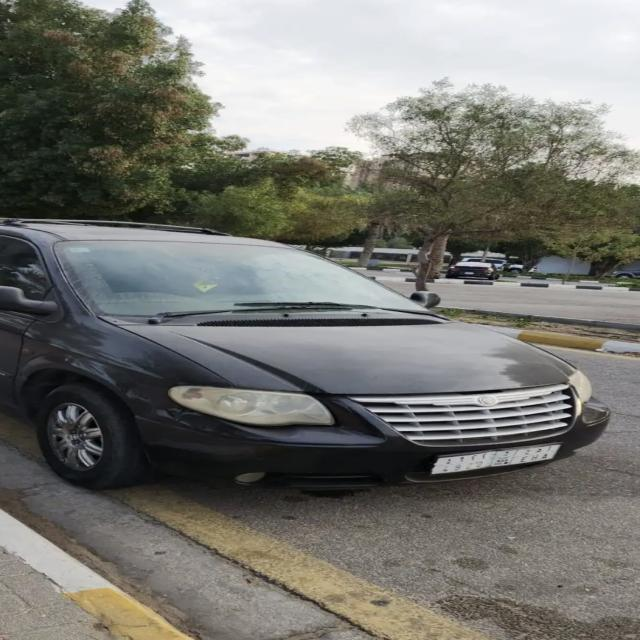license_plate: (431, 442, 564, 480)
